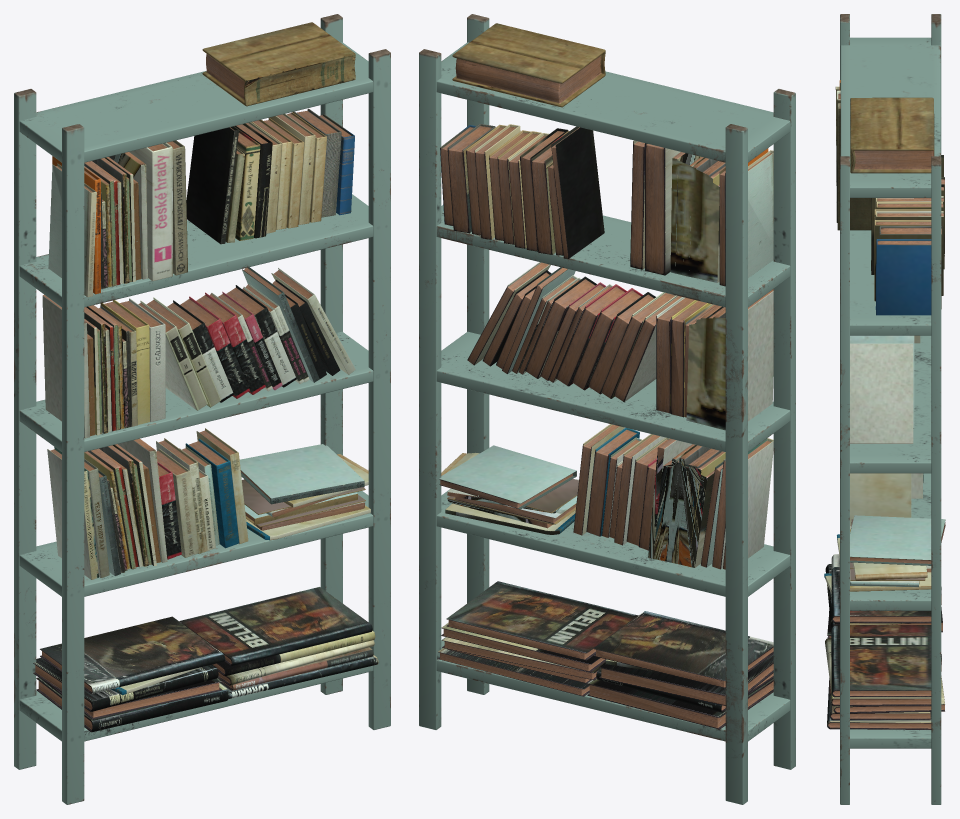
Rendered from shelf_ready.fbx.
3 renders of one model, left to right at view 1: azimuth 30°, elevation 25°; view 2: azimuth 150°, elevation 25°; view 3: azimuth 270°, elevation 25°, orthographic. The views are drawn at different scales.
Parts seen in each view (by area): view 1: Shelf.V, Shelf.H, OldBigBook, Book.033, Plane, Book.037, Plane.001, Plane.009, Book.028, Book.050, Book.038, Book.041 (+48 smaller); view 2: Shelf.V, Shelf.H, OldBigBook, Book.033, Plane, Book.037, Plane.001, Plane.009, Book.050, Book.028, Book.038, Book.034 (+45 smaller); view 3: Shelf.H, Shelf.V, Book.033, Book.016, OldBigBook, Book.052, Book.028, Book.026, Book.037, Plane.007, Book.039, Book.029 (+15 smaller).
Part boxes in pixels (<box>): Shelf.V: <box>14,14,390,804</box>; Shelf.H: <box>19,42,373,741</box>; OldBigBook: <box>202,22,355,106</box>; Book.033: <box>179,587,372,665</box>; Plane: <box>42,294,132,438</box>; Book.037: <box>40,616,225,693</box>; Plane.001: <box>84,438,167,572</box>; Plane.009: <box>84,152,147,288</box>; Book.028: <box>239,444,364,504</box>; Book.050: <box>186,126,238,244</box>; Book.038: <box>129,142,172,281</box>; Book.041: <box>48,163,96,297</box>; Shelf.V: <box>419,14,795,804</box>; Shelf.H: <box>436,42,790,741</box>; OldBigBook: <box>452,23,605,107</box>; Book.033: <box>446,581,638,660</box>; Plane: <box>686,289,773,430</box>; Book.037: <box>594,611,773,688</box>; Plane.001: <box>648,438,725,567</box>; Plane.009: <box>670,152,725,282</box>; Book.050: <box>551,126,604,258</box>; Book.028: <box>439,445,576,509</box>; Book.038: <box>645,143,680,275</box>; Book.034: <box>587,678,773,729</box>; Shelf.H: <box>840,37,940,748</box>; Shelf.V: <box>840,14,941,804</box>; Book.033: <box>831,625,931,697</box>; Book.016: <box>850,343,913,443</box>; OldBigBook: <box>850,97,934,173</box>; Book.052: <box>875,239,931,315</box>; Book.028: <box>850,515,945,565</box>; Book.026: <box>850,473,911,525</box>; Book.037: <box>831,554,931,623</box>; Plane.007: <box>850,529,927,580</box>; Book.039: <box>837,103,871,230</box>; Book.029: <box>827,654,941,729</box>.
Bounding box in the file's own units: 253 × 502 × 86.07.
Materials: 8 (8 with a texture image).
